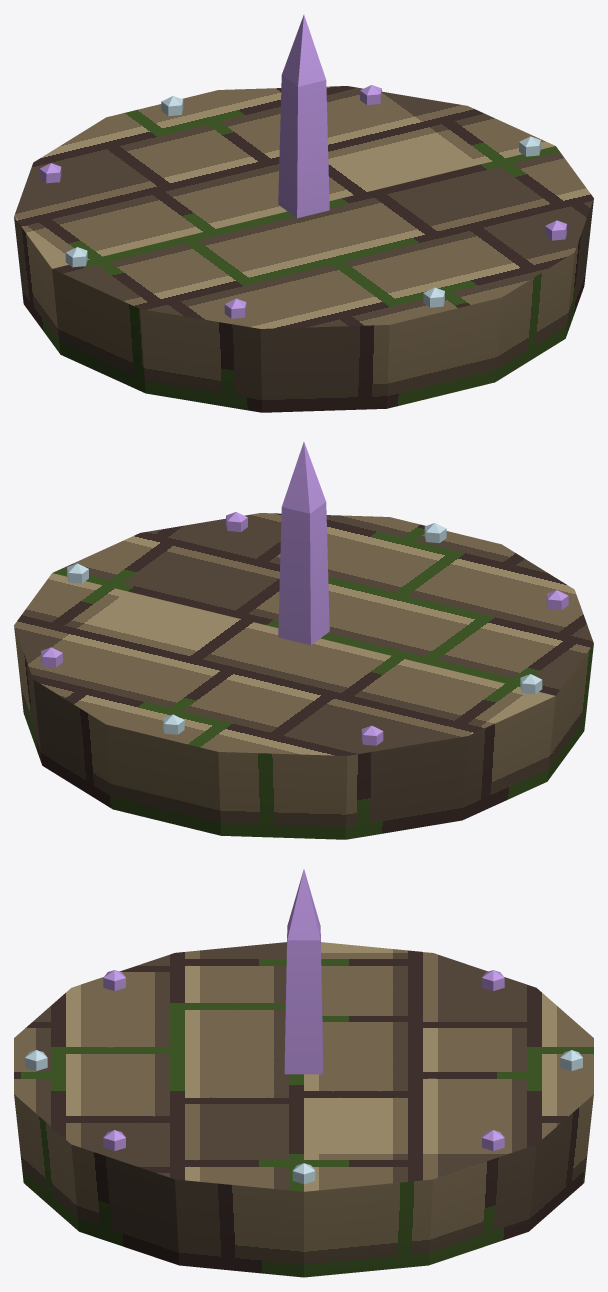
Rendered from moon_well.glb.
3 renders of one model, top to bottom at view 1: azimuth 30°, elevation 25°; view 2: azimuth 150°, elevation 25°; view 3: azimuth 270°, elevation 25°, orthographic. The views are drawn at different scales.
Visible parts, largest first — view 1: moon_well; view 2: moon_well; view 3: moon_well.
Part boxes in pixels (left/top/right/bottom): moon_well: left=14, top=15, right=593, bottom=412; moon_well: left=14, top=442, right=593, bottom=839; moon_well: left=14, top=869, right=593, bottom=1277.
Size of the model in its own units: 3 by 1.6 by 2.92.
Materials: 2 (1 with a texture image).
